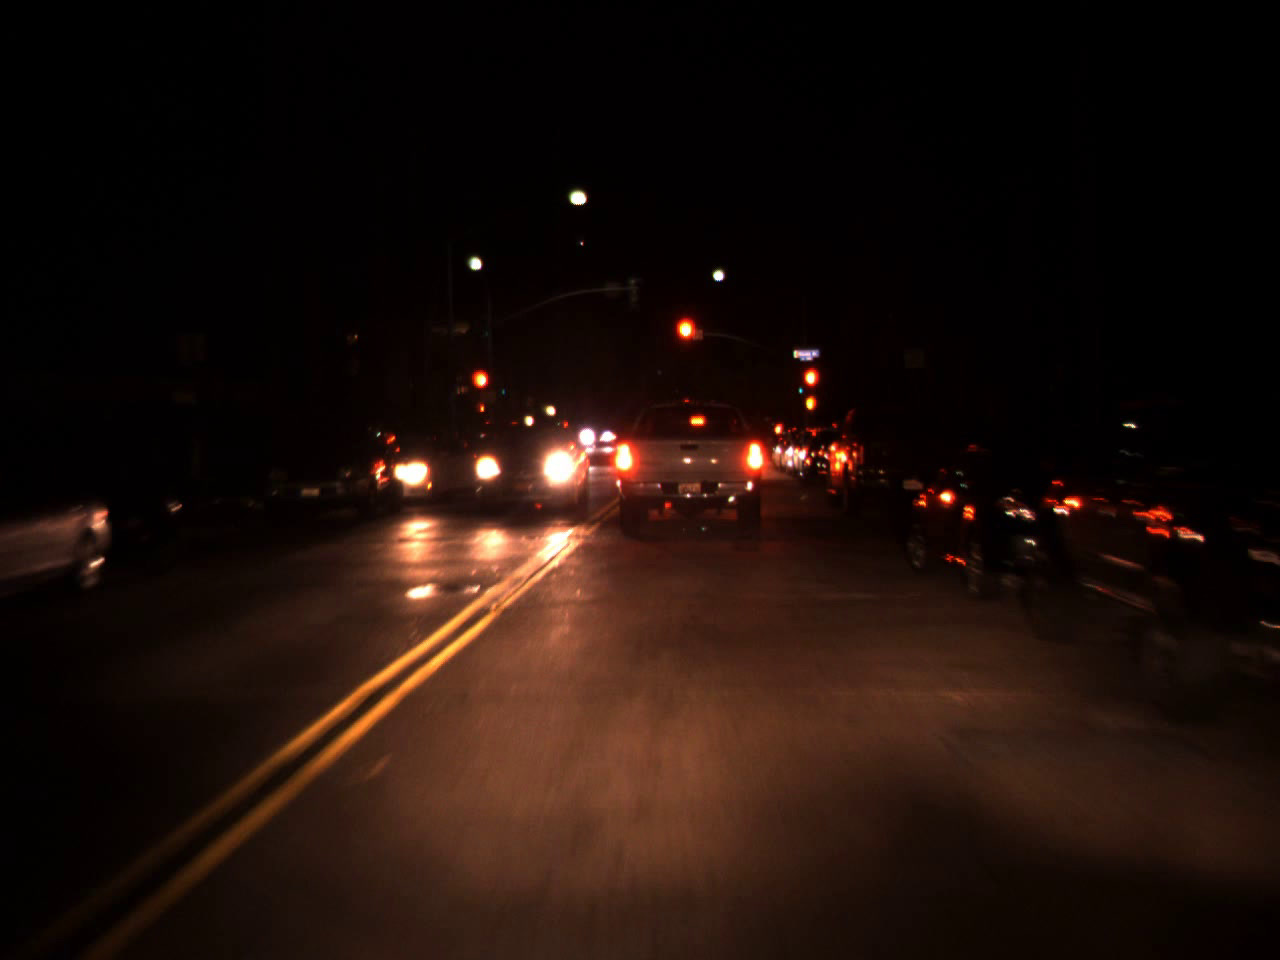stop: (672, 314, 700, 368), (800, 363, 821, 411), (470, 368, 491, 411)
